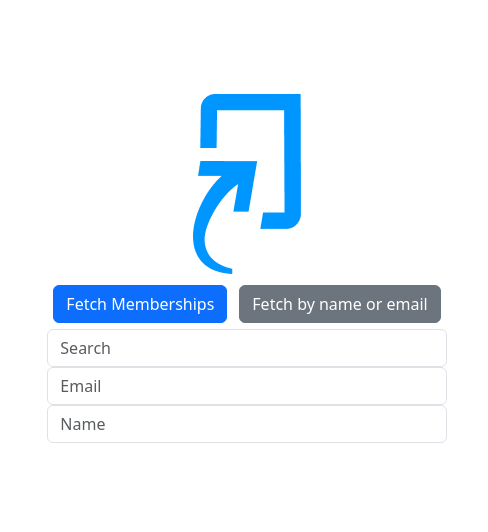
App › Search › should filter email on search box with mismatching case
The image size is (488, 532).
Click the button "Fetch Memberships" at (140, 304), box top-left (53, 285), bottom-right (227, 323)
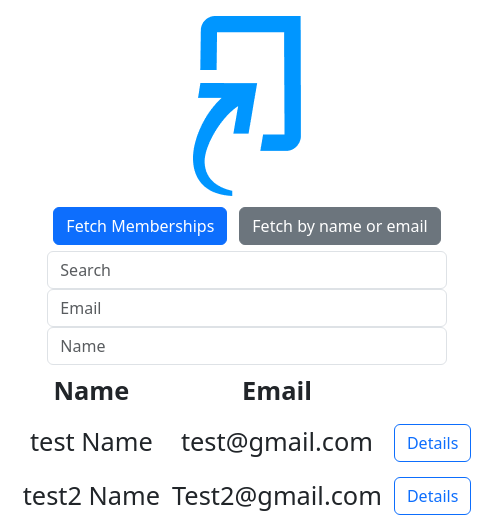
Type "test2@gmail.com" into the field with placeholder "Search" at (247, 270), box top-left (47, 251), bottom-right (447, 289)
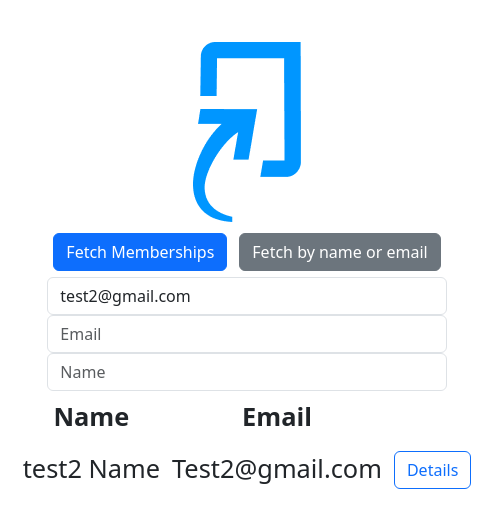
Expected: the text "Test2@gmail.com" is shown, top-left (166, 441), bottom-right (388, 495)
Expected: the text "test2 Name" is shown, top-left (17, 441), bottom-right (166, 495)
Expected: the text "test@gmail.com" is gone
